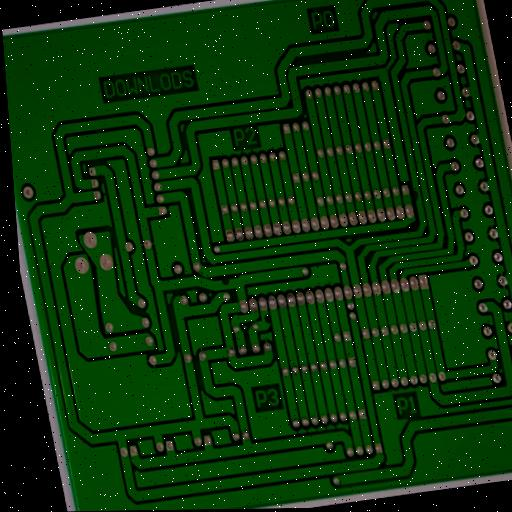mouse_bite: (410, 186, 424, 205), (219, 275, 235, 291), (261, 311, 273, 326)
